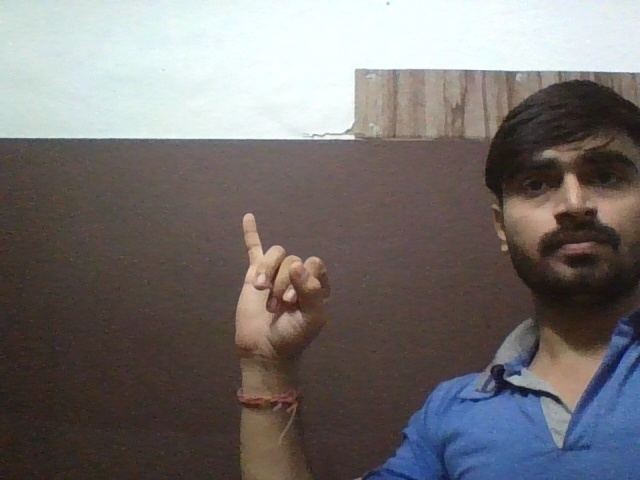I: (212, 203, 343, 363)
